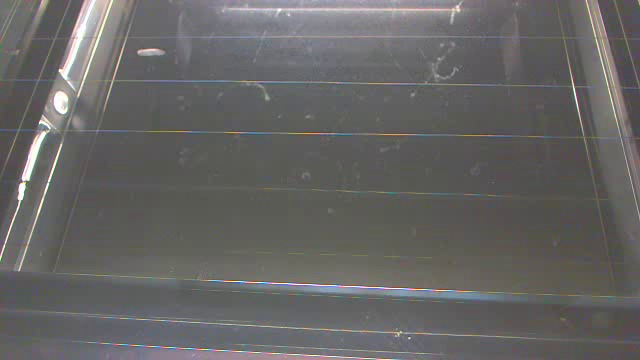Alfa: (134, 40, 173, 61)
